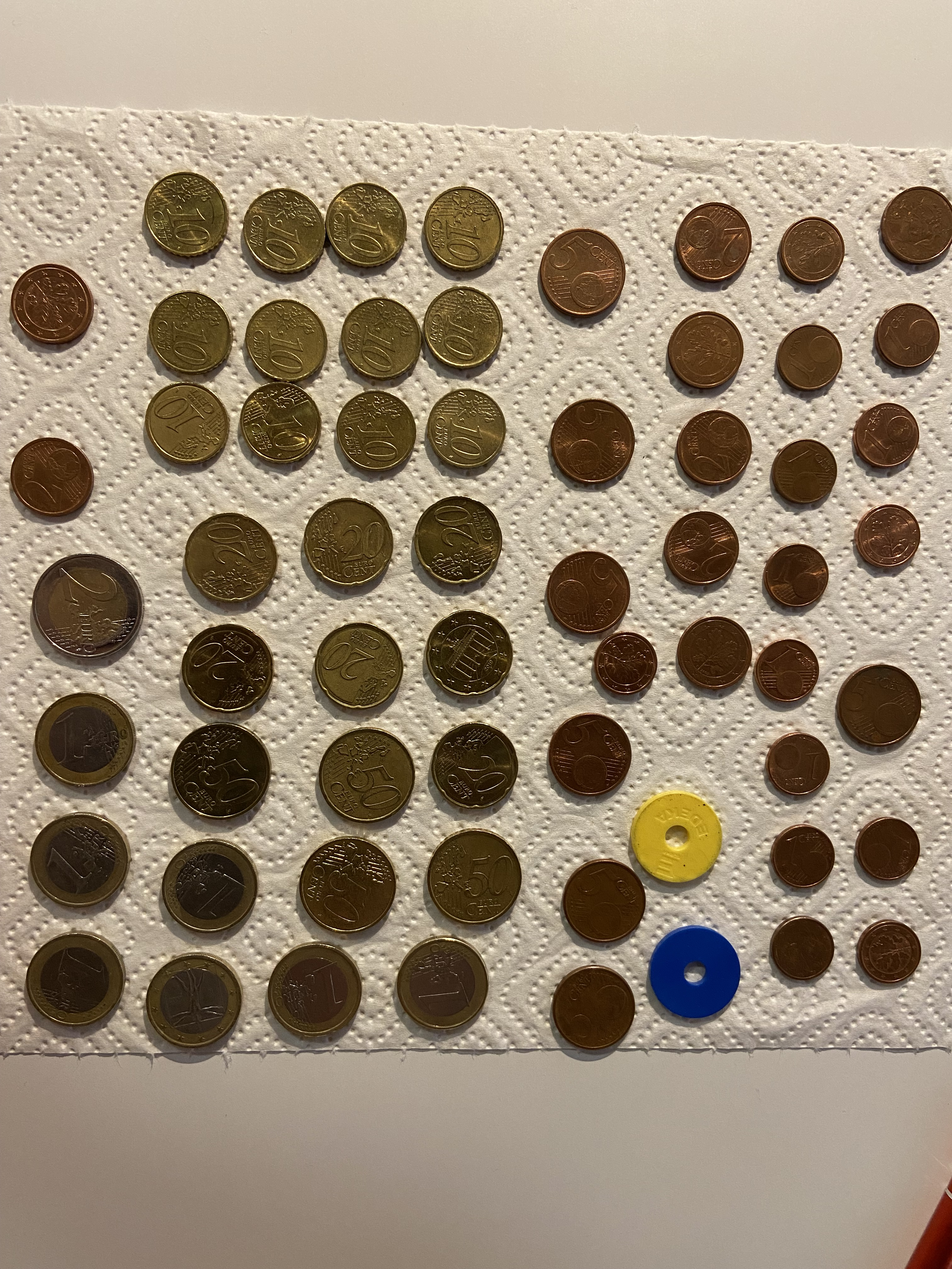1 cent: (851, 498, 924, 571), (776, 213, 848, 286), (773, 321, 845, 394), (871, 300, 943, 373), (851, 398, 923, 471), (768, 433, 840, 506), (768, 821, 836, 890), (763, 543, 830, 612), (755, 636, 822, 705), (593, 630, 660, 699), (765, 731, 832, 800), (854, 813, 921, 882), (770, 913, 837, 982), (855, 915, 922, 984)
1 euro: (26, 931, 127, 1030), (390, 933, 491, 1032), (30, 811, 131, 910), (143, 951, 244, 1049), (263, 941, 364, 1039), (161, 836, 262, 934), (35, 691, 136, 789)
10 cent: (144, 171, 231, 260), (237, 380, 323, 465), (144, 381, 229, 466), (243, 188, 326, 274), (149, 291, 233, 375), (326, 182, 408, 268), (245, 299, 329, 382), (424, 186, 505, 272), (341, 297, 422, 381), (336, 390, 417, 472), (426, 286, 503, 370), (427, 389, 506, 469), (231, 259, 233, 260)
2 cent: (11, 261, 96, 347), (10, 435, 94, 521), (674, 200, 754, 283), (673, 407, 753, 490), (664, 309, 744, 392), (663, 507, 743, 590), (674, 613, 754, 696), (878, 183, 952, 266)
2 euro: (30, 549, 147, 661)
20 cent: (428, 719, 521, 813), (411, 495, 504, 588), (184, 511, 276, 605), (312, 619, 404, 713), (302, 496, 394, 589), (422, 606, 514, 699), (181, 622, 273, 715)
5 cent: (550, 962, 640, 1053), (549, 708, 639, 798), (539, 227, 628, 318), (547, 396, 636, 487), (544, 546, 633, 637), (834, 661, 923, 752), (559, 857, 648, 948)
50 cent: (169, 720, 276, 823), (299, 835, 398, 934), (318, 726, 417, 825), (427, 828, 522, 924)
